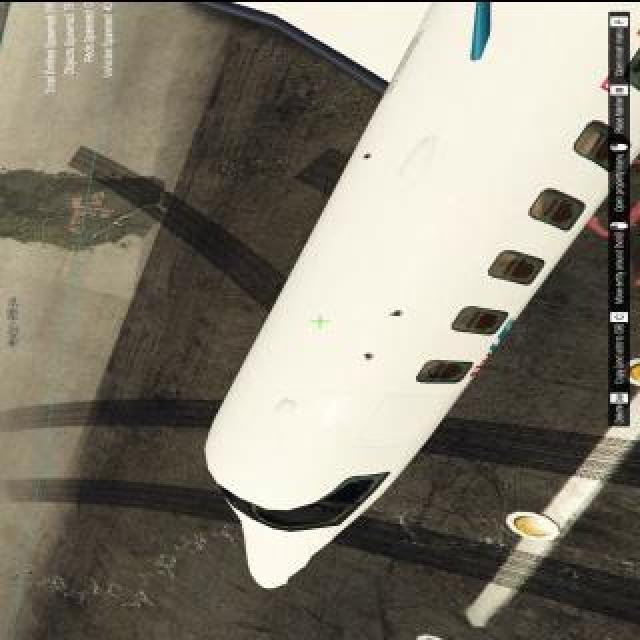crack: (384, 309, 406, 317), (362, 350, 376, 360), (360, 152, 374, 158)
